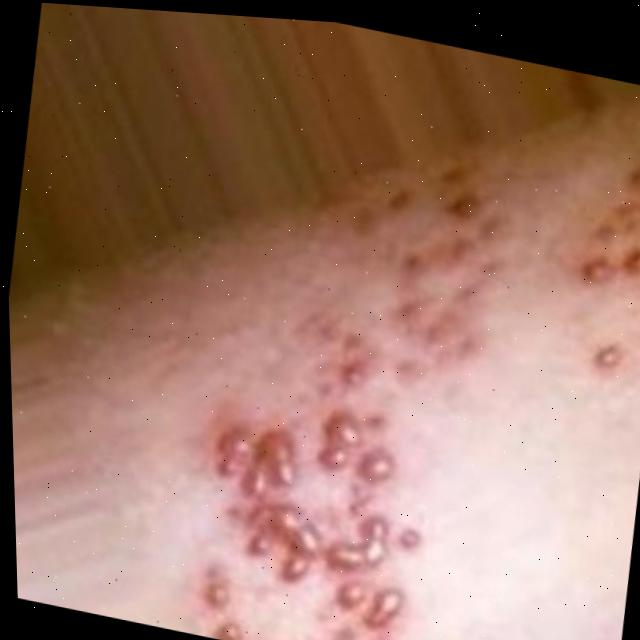Shingles: (179, 326, 494, 640), (565, 235, 640, 381)
